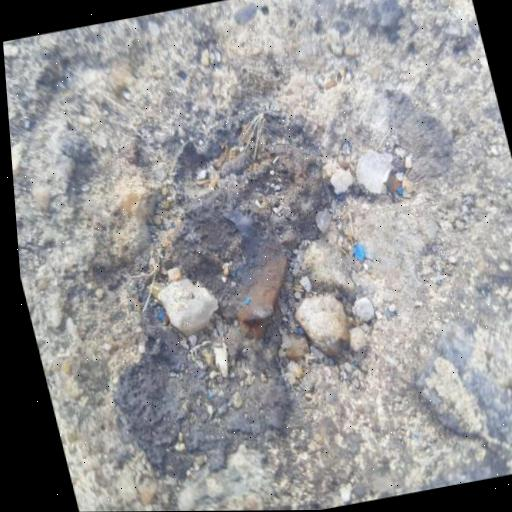exposed_rebar: (222, 209, 287, 336)
